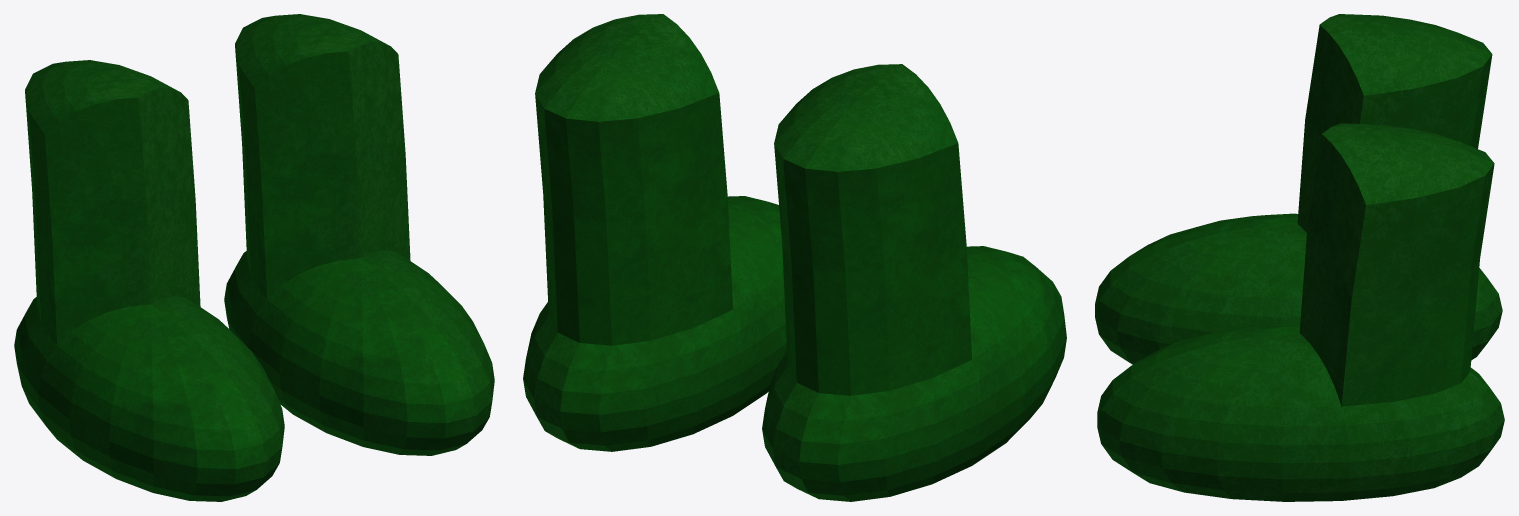
Rendered from JBayer_JumpingBoots.fbx.
3 views of the same model, side by side, from view 1: azimuth 30°, elevation 25°; view 2: azimuth 150°, elevation 25°; view 3: azimuth 270°, elevation 25° (orthographic). The views are drawn at different scales.
Parts seen in each view (by area): view 1: Right_Boot, Left_Boot; view 2: Right_Boot, Left_Boot; view 3: Left_Boot, Right_Boot.
Part boxes in pixels (<box>): Right_Boot: <box>14,60,284,501</box>; Left_Boot: <box>224,14,494,455</box>; Right_Boot: <box>762,64,1066,501</box>; Left_Boot: <box>523,14,786,451</box>; Left_Boot: <box>1097,123,1504,501</box>; Right_Boot: <box>1095,14,1502,364</box>.
Bounding box in the file's own units: 276 × 229 × 251.
1 material, 1 textured.
